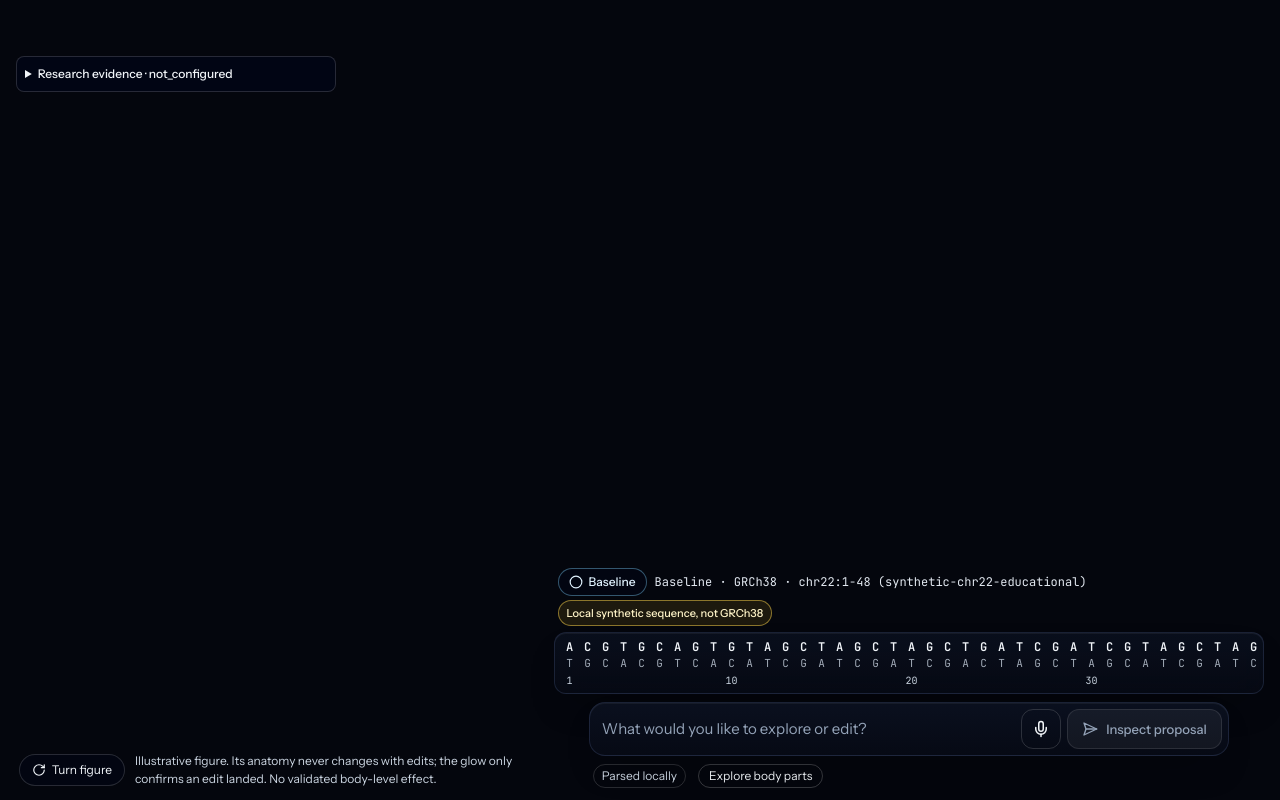
it: explore and trait goals do not mutate the draft › submitting a trait goal never opens a proposal
The width and height of the screenshot is (1280, 800).
Type "stronger legs" into the field with test id "prompt-input" at (808, 729), box [602,712,1015,746]
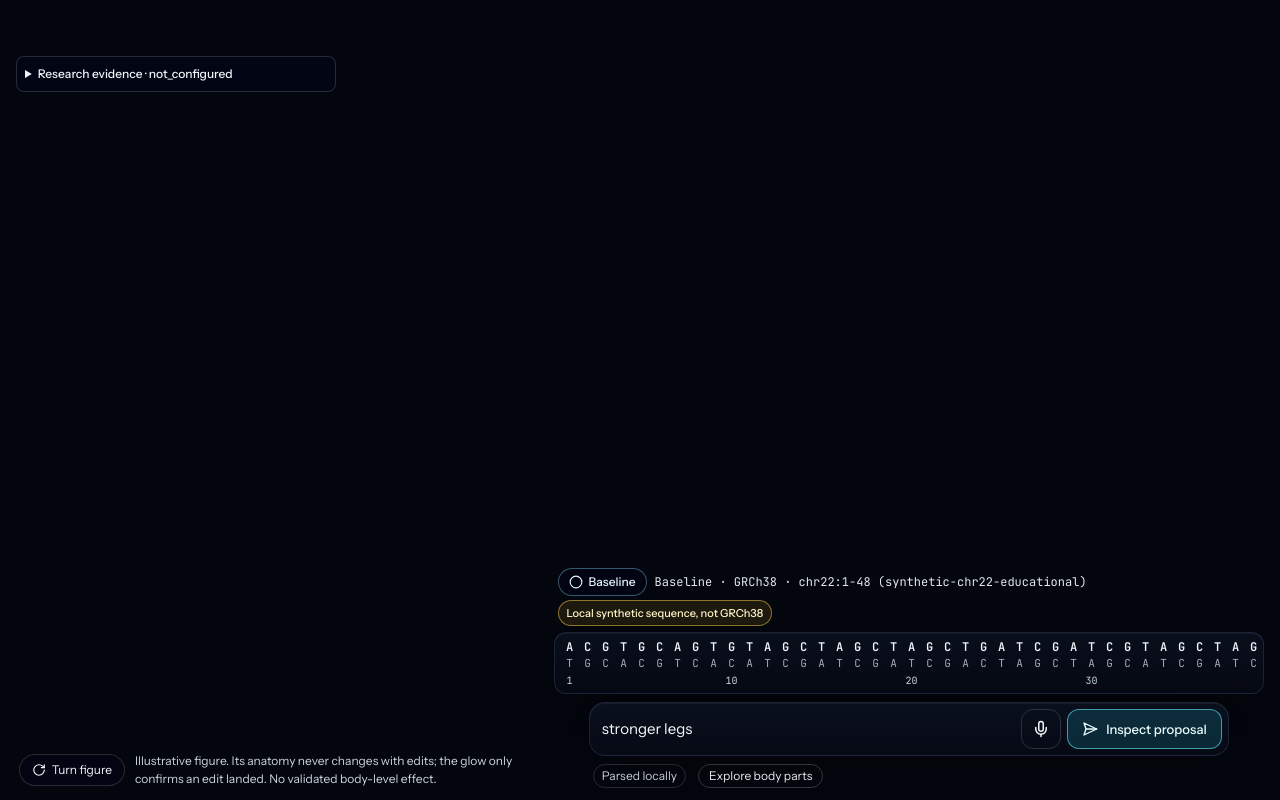
Click the button with test id "inspect-proposal" at (1144, 729), box [1067,709,1222,749]
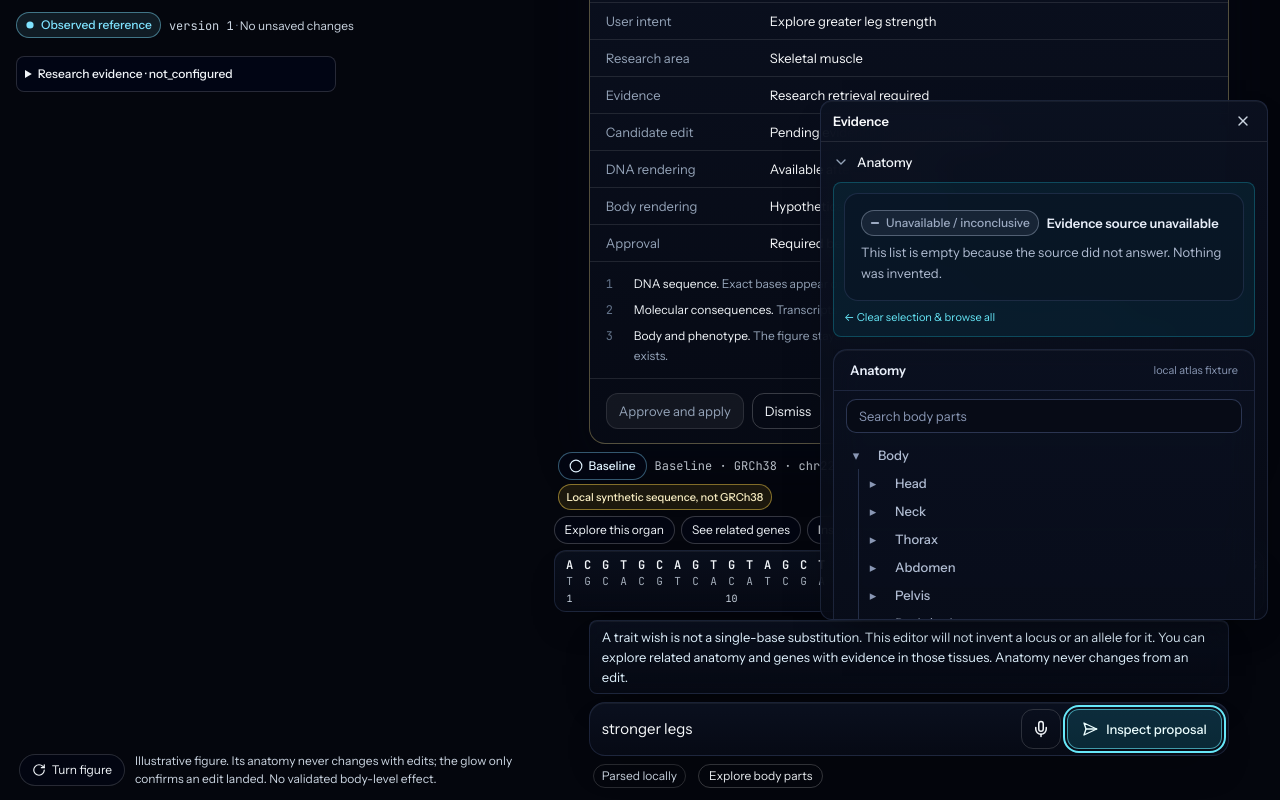
Check: the message with test id "composer-outcome" shows "not a single-base", box [602,629,1205,685]
